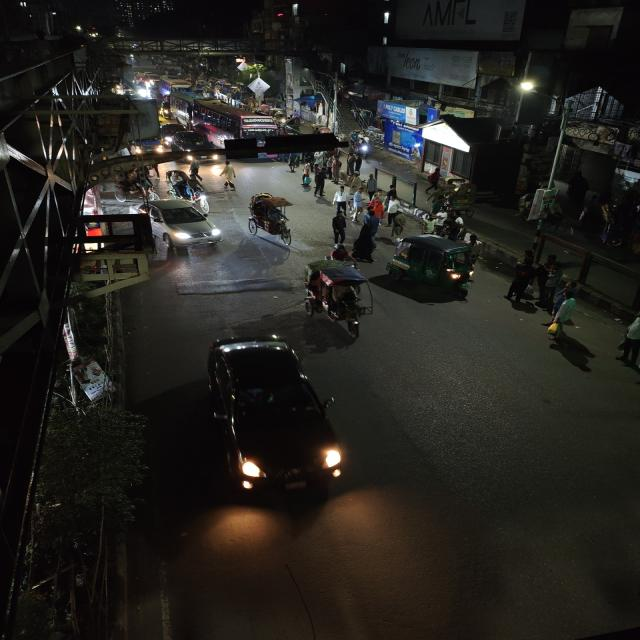bus: (168, 94, 280, 146)
car: (191, 328, 357, 510), (139, 198, 224, 253), (174, 131, 218, 163)
cng: (389, 235, 484, 293)
pedestrian: (611, 302, 640, 378), (546, 291, 586, 336), (503, 264, 536, 308), (538, 253, 565, 299), (356, 204, 382, 248), (352, 221, 380, 259), (216, 162, 240, 196), (387, 205, 408, 241), (328, 211, 351, 243), (329, 242, 357, 266), (311, 165, 330, 199), (333, 183, 351, 215), (447, 213, 466, 240), (429, 212, 448, 238), (420, 212, 440, 236), (299, 164, 316, 192), (463, 231, 482, 256), (285, 156, 298, 174)
pickup_van: (129, 136, 168, 156)
rickshaw: (300, 258, 379, 334), (242, 192, 298, 245), (160, 171, 214, 208)
